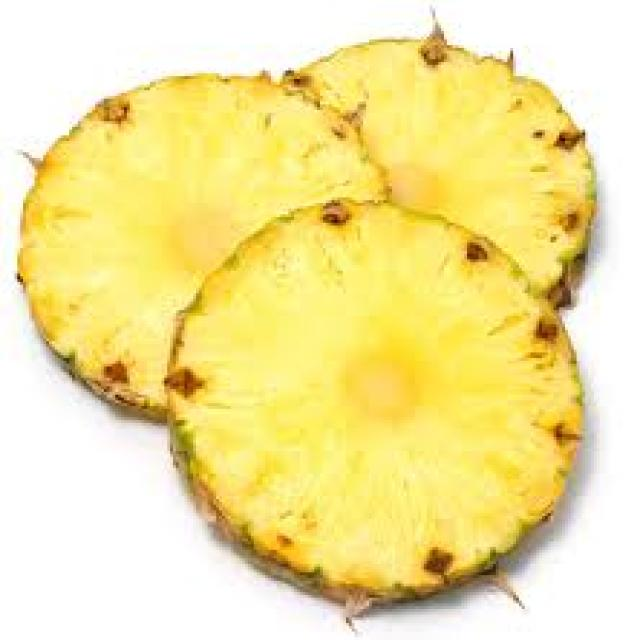pineapple: (12, 25, 611, 612)
